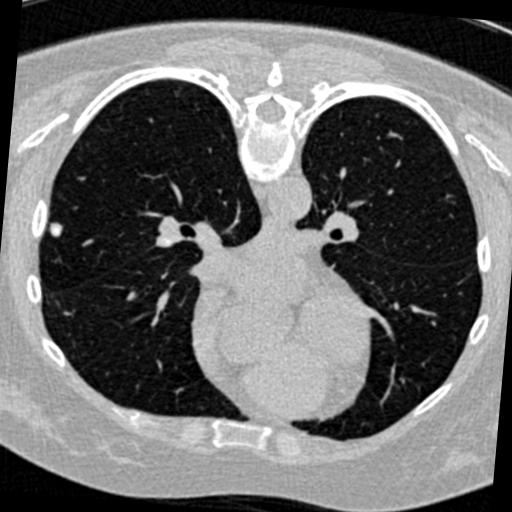nodule: (46, 222, 67, 243)
